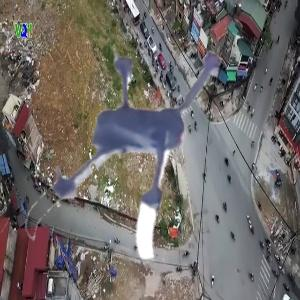drone: (7, 27, 270, 290)
